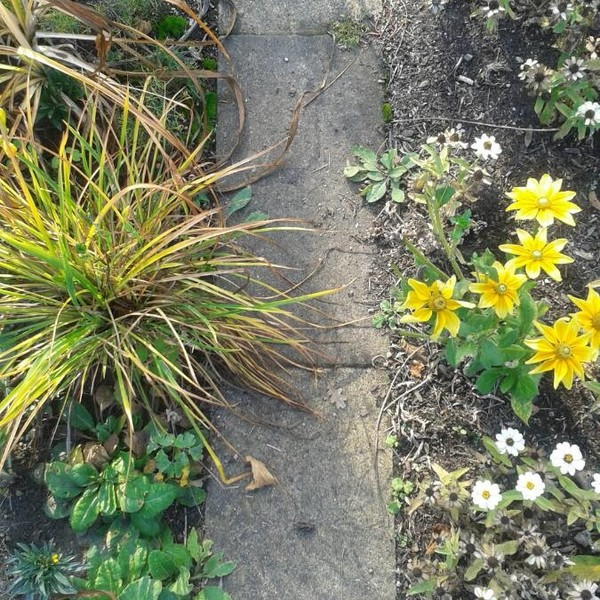obstacle: (13, 81, 303, 460), (369, 132, 593, 443), (398, 184, 580, 426), (28, 424, 219, 587), (461, 425, 590, 535)
